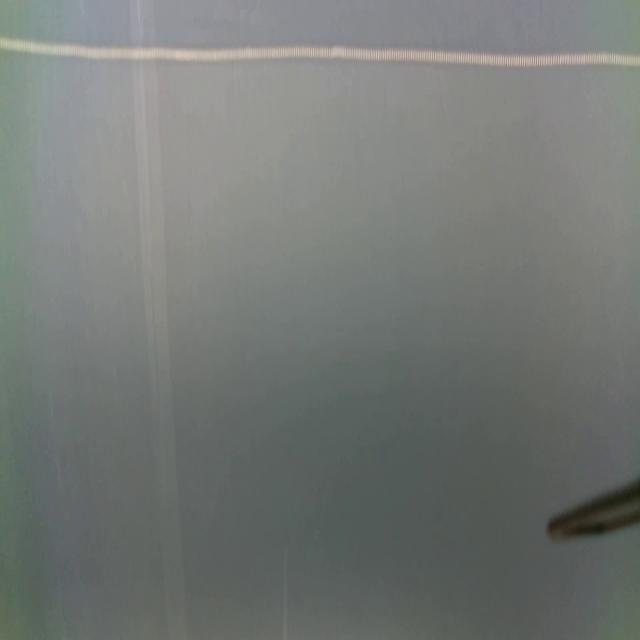crease: (128, 0, 188, 640), (280, 539, 290, 640)
